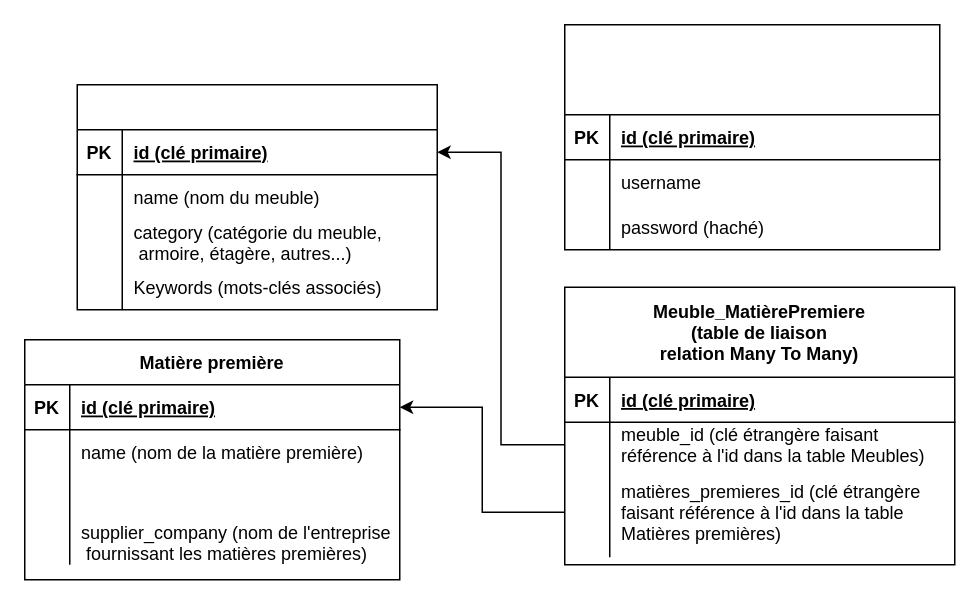
Image size: 980x605. Some labels were removed from this diagram. Here are the shapes that lost their labels. From the top down, the box of each, then its label:
(563, 23, 940, 250): Utilisateurs (Pour la gestion des utilisateurs et l'authentification)
(76, 83, 437, 310): Meubles
